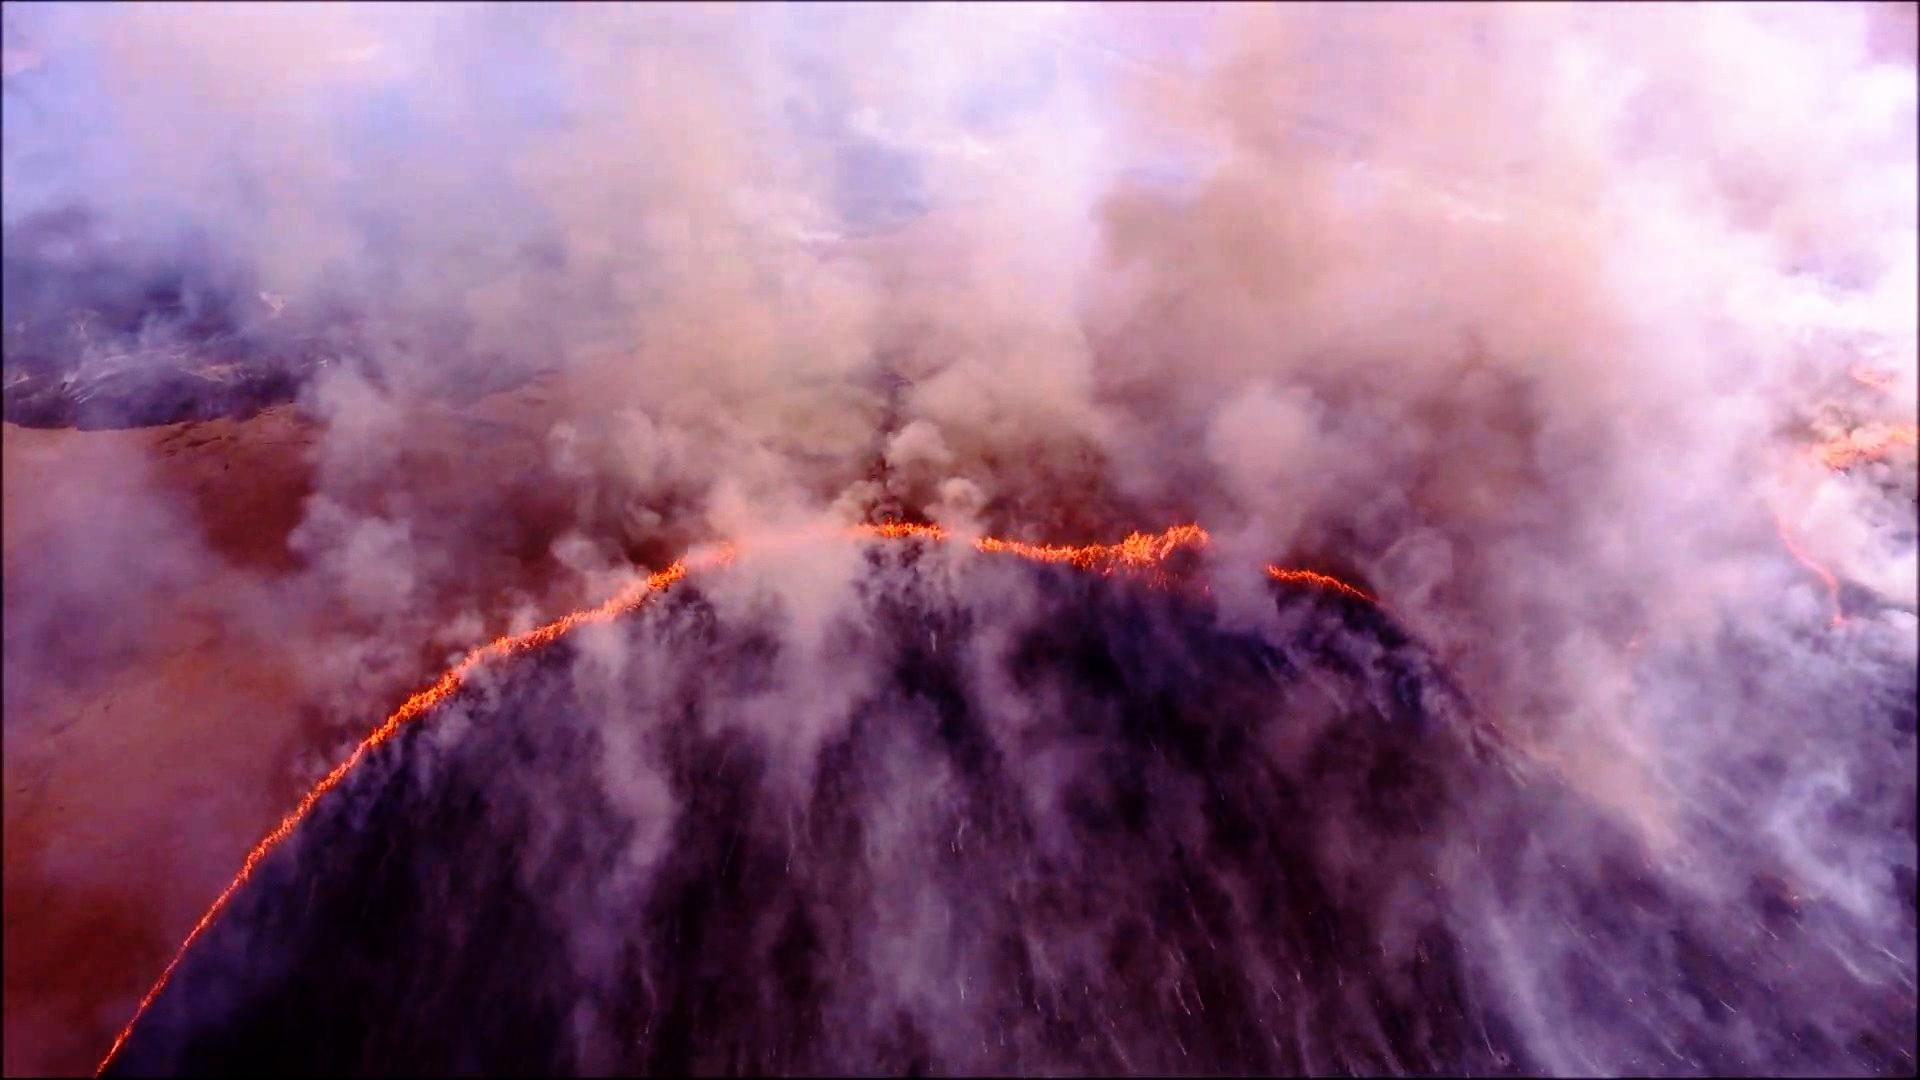fire: (1072, 510, 1213, 578), (1797, 423, 1920, 472), (632, 555, 682, 599)
smoke: (1113, 0, 1759, 502), (284, 4, 634, 666), (1364, 530, 1700, 1080), (771, 553, 1000, 1069), (885, 409, 1137, 831), (713, 208, 1056, 495), (1712, 707, 1917, 1051)
